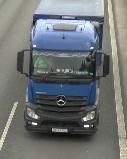truck: (16, 0, 111, 137)
